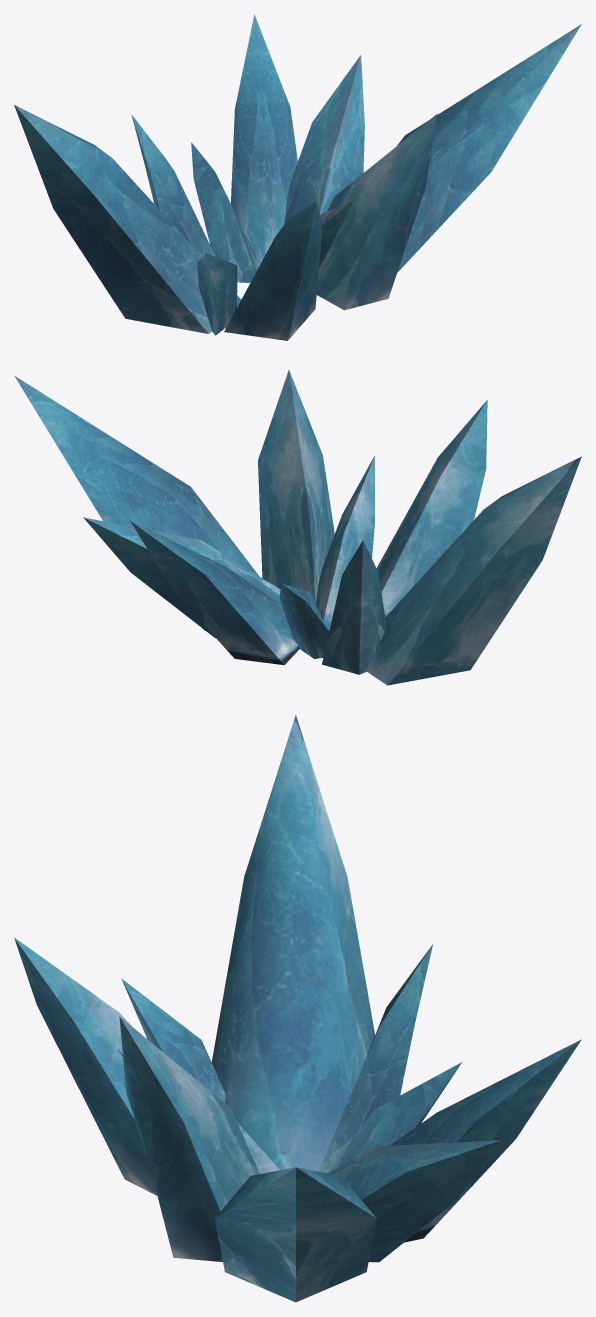
File: bs_bingzhu_2.FBX
3 renders of one model, top to bottom at view 1: azimuth 30°, elevation 25°; view 2: azimuth 150°, elevation 25°; view 3: azimuth 270°, elevation 25°, orthographic. The views are drawn at different scales.
Visible parts, largest first — view 1: bs_bingzhu_2; view 2: bs_bingzhu_2; view 3: bs_bingzhu_2.
Boxes of the visible parts, left/top/right/bottom form: bs_bingzhu_2: left=14, top=14, right=581, bottom=340; bs_bingzhu_2: left=14, top=370, right=581, bottom=685; bs_bingzhu_2: left=14, top=715, right=581, bottom=1302.
Size of the model in its own units: 495 by 201 by 317.
